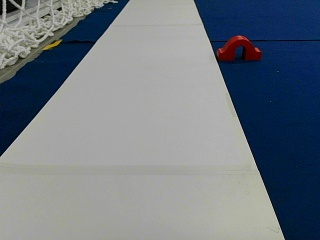bridge: (218, 35, 261, 59)
